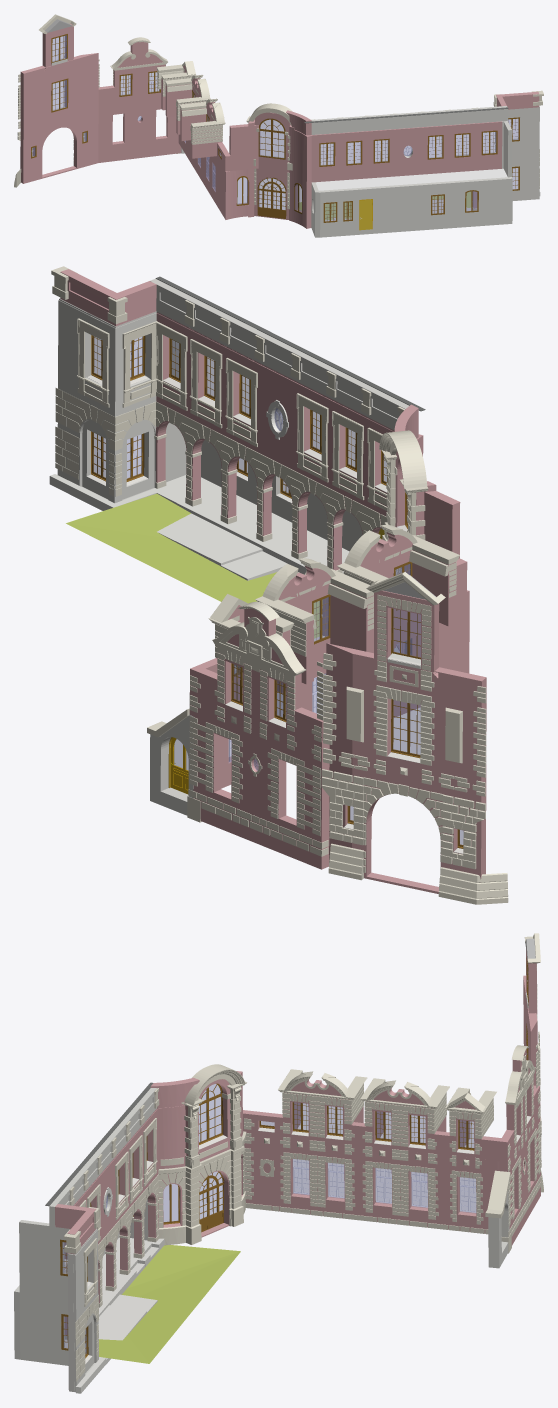
Rendered from CLOS_DES_FEE_FACADE.glb.
3 views of the same model, one above another, from view 1: azimuth 30°, elevation 25°; view 2: azimuth 150°, elevation 25°; view 3: azimuth 270°, elevation 25° (orthographic). The views are drawn at different scales.
Parts seen in each view (by area): view 1: CLOS_DES_FEE_FACADE- Vue 3D - {3D}; view 2: CLOS_DES_FEE_FACADE- Vue 3D - {3D}; view 3: CLOS_DES_FEE_FACADE- Vue 3D - {3D}.
Boxes of the visible parts, box(x1,y1,x2,y2) form: CLOS_DES_FEE_FACADE- Vue 3D - {3D}: box(14, 14, 543, 237); CLOS_DES_FEE_FACADE- Vue 3D - {3D}: box(49, 266, 508, 904); CLOS_DES_FEE_FACADE- Vue 3D - {3D}: box(14, 933, 543, 1393).
Size of the model in its own units: 32.41 by 12.92 by 26.41.
